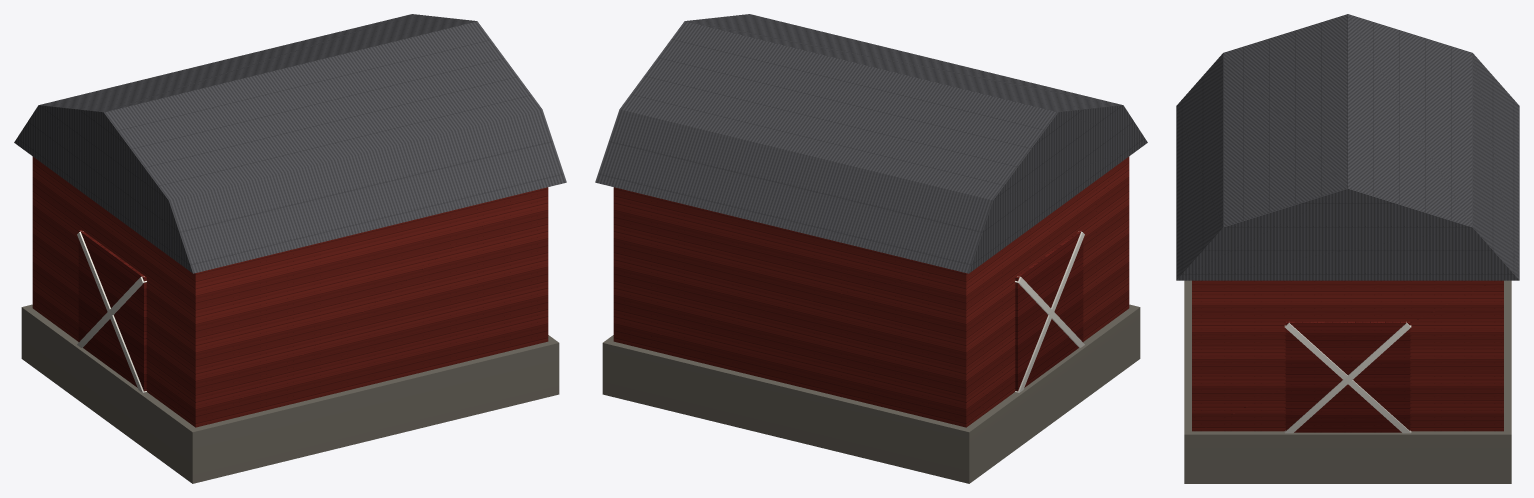
File: celeiro.glb
The picture shows the model from 3 angles, left to right: view 1: azimuth 30°, elevation 25°; view 2: azimuth 150°, elevation 25°; view 3: azimuth 270°, elevation 25°; orthographic projection. The views are drawn at different scales.
Parts seen in each view (by area): view 1: celeiro, celeiro_liso; view 2: celeiro, celeiro_liso; view 3: celeiro, celeiro_liso.
Boxes of the visible parts, x1,y1,x2,y2 form: celeiro: (14,14,566,427); celeiro_liso: (21,231,559,483); celeiro: (595,14,1147,427); celeiro_liso: (602,231,1140,483); celeiro: (1176,14,1519,432); celeiro_liso: (1184,280,1511,483).
Size of the model in its own units: 10.6 by 8.4 by 8.8.
3 materials, 2 textured.
